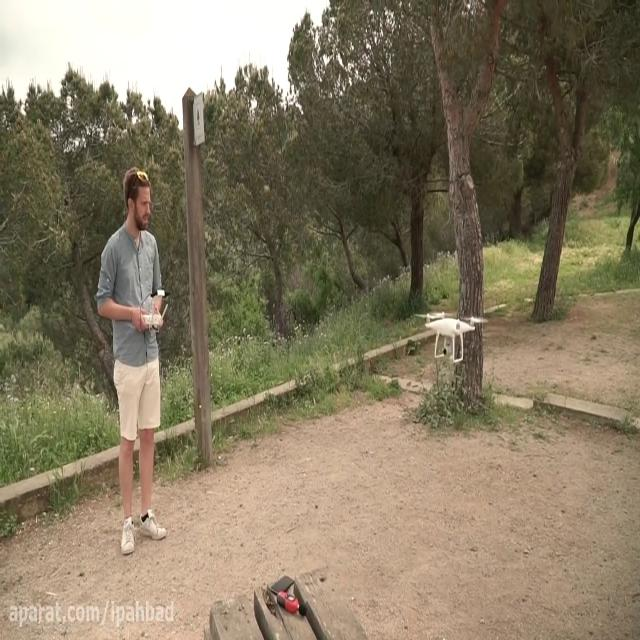drone: (414, 310, 488, 364)
